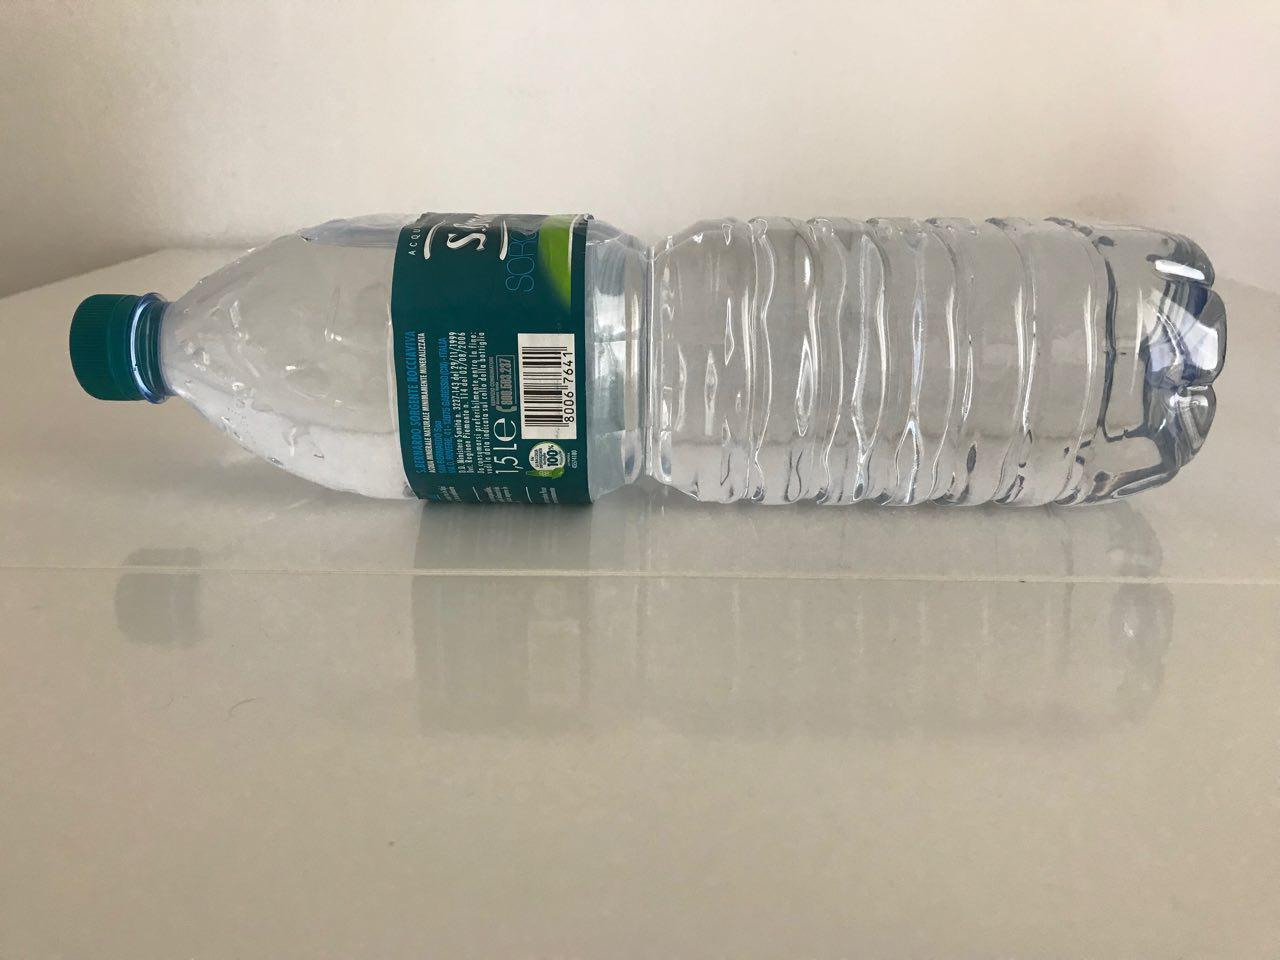san_bernardo: (67, 209, 1229, 511)
